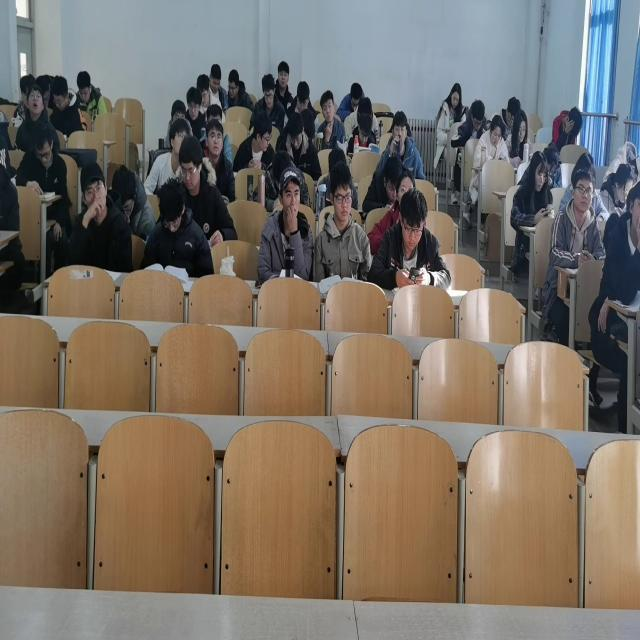bow: (110, 163, 156, 242), (264, 148, 310, 212), (361, 154, 403, 214), (598, 161, 635, 215), (450, 98, 488, 148), (347, 113, 377, 155), (336, 81, 365, 121)
down: (399, 187, 428, 252), (158, 177, 186, 235), (329, 159, 353, 223), (178, 136, 203, 191), (112, 166, 136, 222), (382, 156, 403, 203), (33, 122, 54, 168), (529, 150, 548, 194), (614, 162, 634, 203), (51, 74, 69, 113), (288, 111, 305, 152), (260, 74, 276, 108), (565, 106, 582, 138), (470, 99, 486, 132), (77, 70, 92, 105), (513, 108, 528, 143), (295, 80, 310, 114), (357, 112, 372, 146), (489, 114, 504, 146), (197, 74, 210, 108), (209, 62, 222, 94), (228, 68, 240, 100), (350, 83, 363, 112), (450, 81, 462, 109)
lookup: (80, 160, 108, 219), (276, 166, 302, 220), (571, 166, 596, 213), (205, 118, 225, 158), (391, 110, 408, 147), (26, 83, 45, 116), (187, 85, 202, 121), (320, 91, 336, 124), (278, 61, 290, 90)
sit: (366, 185, 451, 290), (67, 158, 133, 273), (142, 177, 214, 279), (312, 160, 371, 284), (178, 133, 238, 245), (257, 166, 314, 282), (548, 165, 606, 269), (16, 119, 68, 194), (144, 116, 189, 196), (510, 148, 555, 228), (277, 111, 322, 182), (378, 110, 424, 179), (16, 82, 60, 152), (202, 117, 236, 206), (233, 110, 276, 173), (49, 74, 87, 138), (473, 113, 510, 168), (250, 73, 285, 130), (506, 107, 536, 169), (316, 90, 346, 151), (74, 69, 107, 119), (436, 80, 462, 140), (551, 105, 583, 152), (227, 67, 254, 110), (186, 85, 207, 140), (208, 61, 229, 111), (274, 61, 294, 112)
